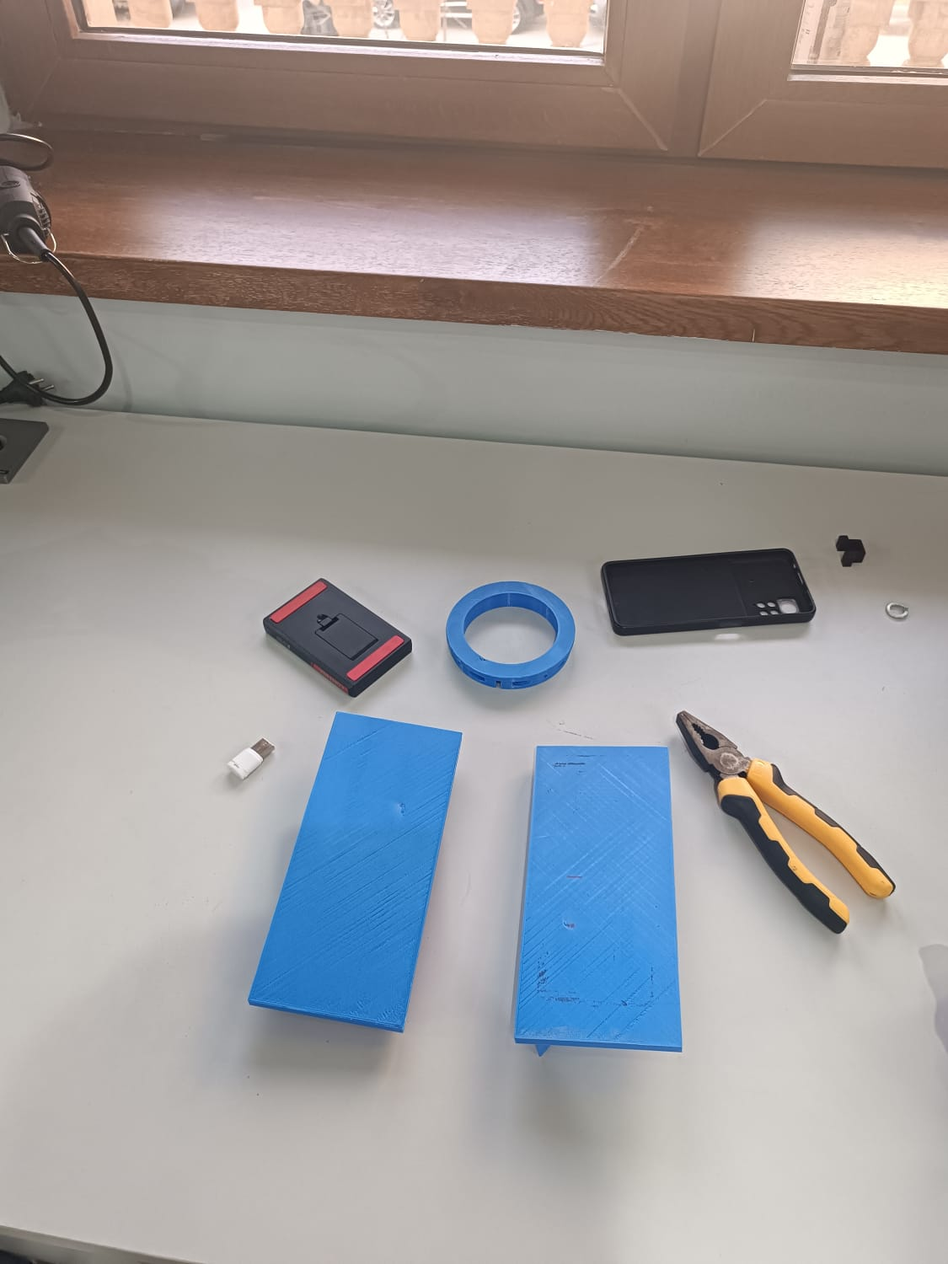Circle: (435, 569, 588, 699)
Rectangular: (245, 708, 468, 1044), (507, 741, 685, 1063)
